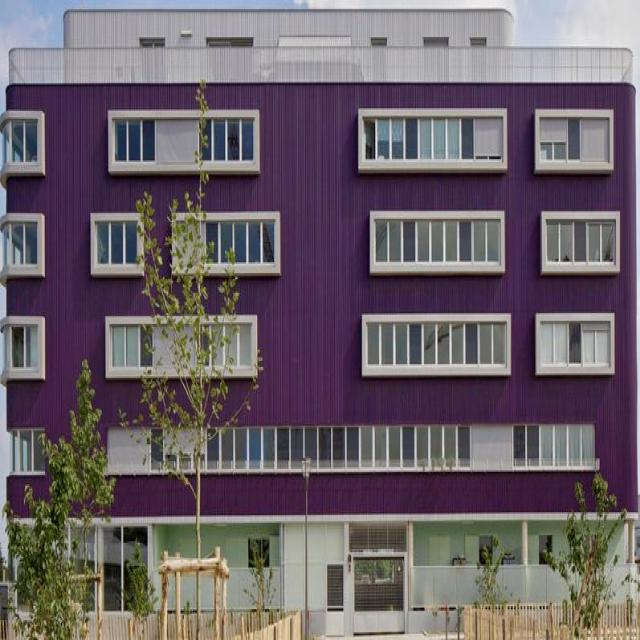Railing: (10, 49, 636, 83)
door: (68, 524, 146, 614)
plant: (122, 183, 238, 483), (7, 352, 115, 631), (540, 473, 626, 630)
wall: (1, 12, 635, 618)
windows: (104, 428, 594, 466), (93, 214, 272, 260), (364, 319, 506, 365), (110, 113, 250, 159), (110, 320, 253, 364), (361, 114, 501, 158), (375, 216, 498, 260), (540, 114, 607, 160), (537, 317, 608, 360), (544, 219, 612, 262), (3, 220, 38, 266), (7, 428, 42, 474), (4, 331, 39, 370), (8, 117, 36, 164), (249, 538, 270, 570), (480, 539, 493, 564), (537, 534, 551, 555)
